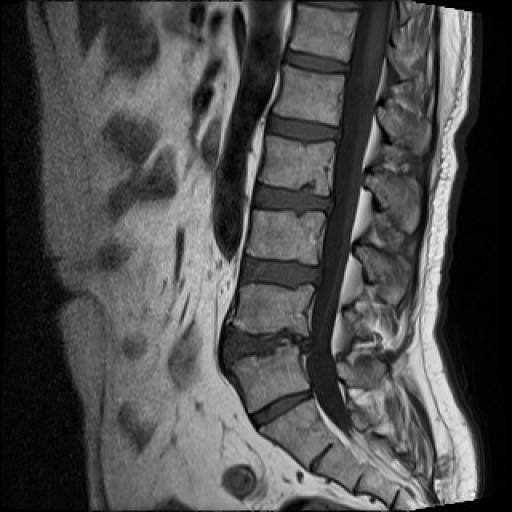L1: (273, 65, 345, 126)
L2: (258, 135, 335, 196)
L3: (246, 210, 326, 264)
L4: (233, 284, 314, 336)
L5: (232, 347, 309, 412)
S1: (260, 399, 336, 466)
